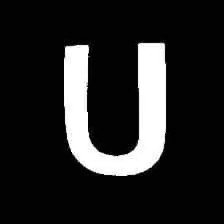LTR_U: (56, 34, 175, 182)
